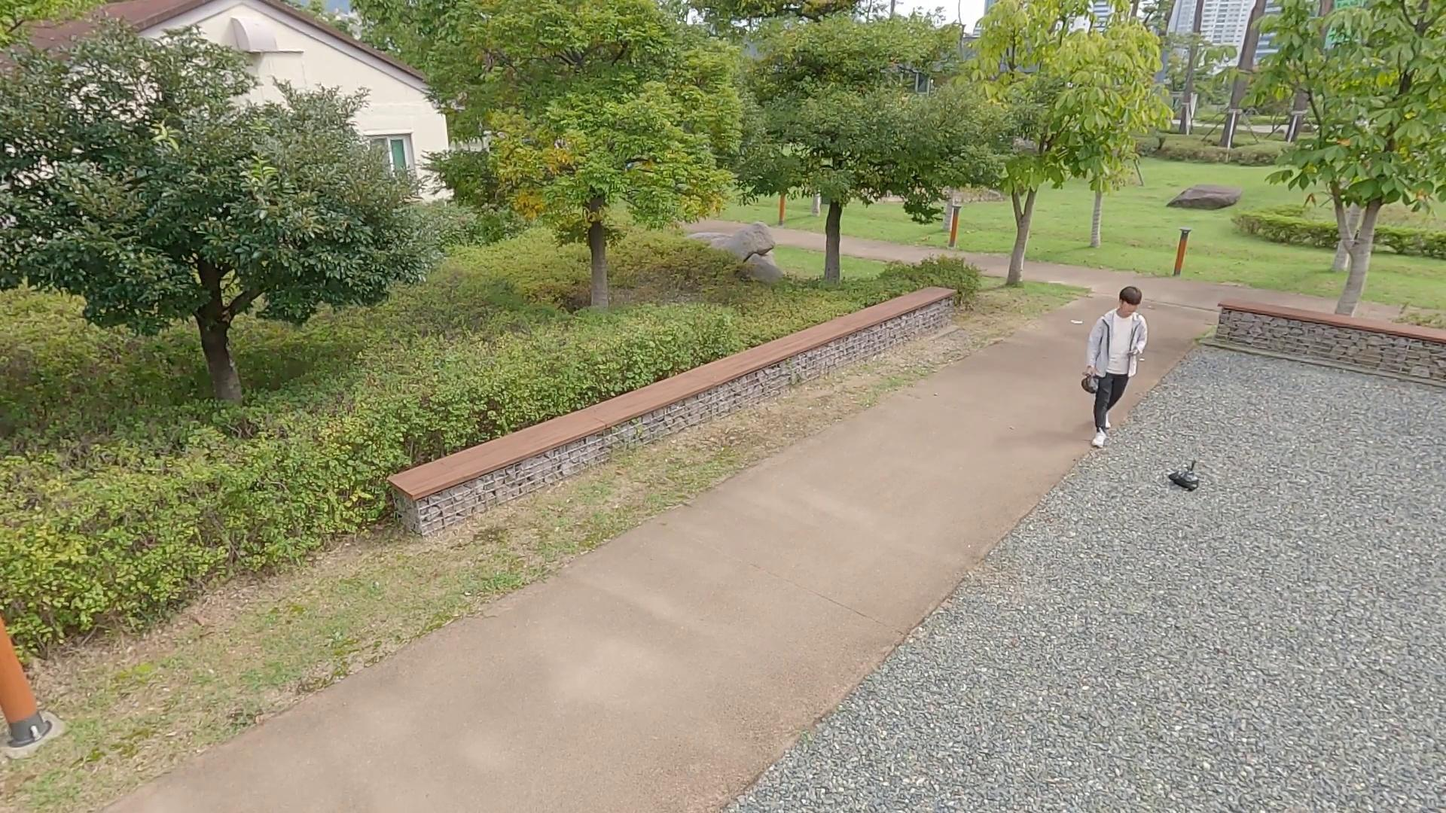person: (1082, 279, 1152, 453)
trash: (1170, 453, 1207, 499), (1083, 373, 1105, 398)
